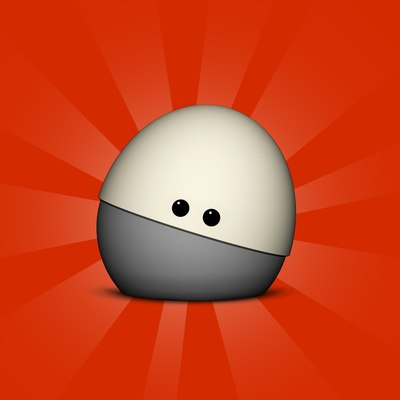mira_robot: (96, 104, 296, 301)
